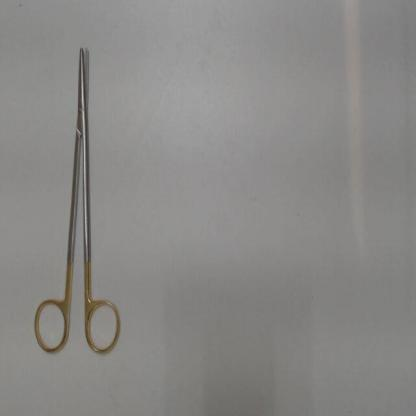7 Metzenbaum Scissors: (30, 44, 126, 360)
